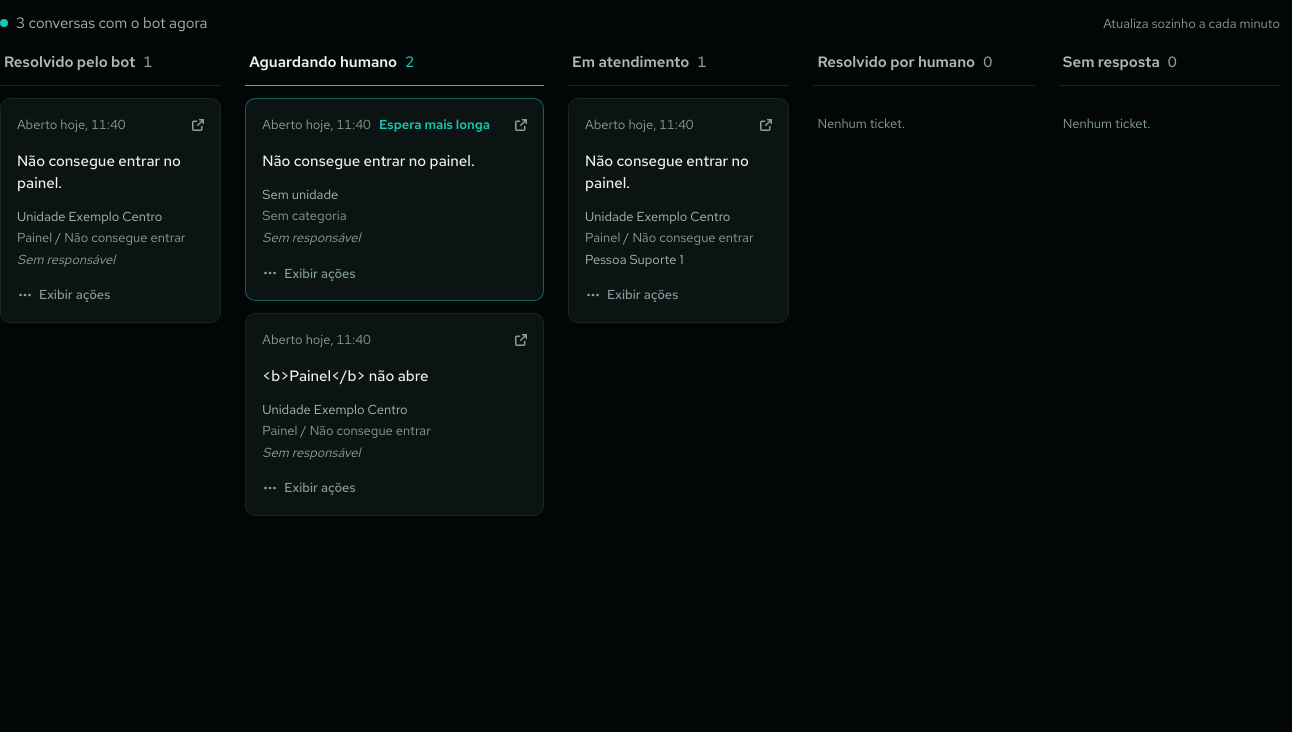
Test: BoardView › keeps focus on the card when the backend refuses
The width and height of the screenshot is (1292, 732).
Click the button "Exibir ações" below "Pessoa Suporte 1". click: (632,295)
box: [577, 281, 686, 309]
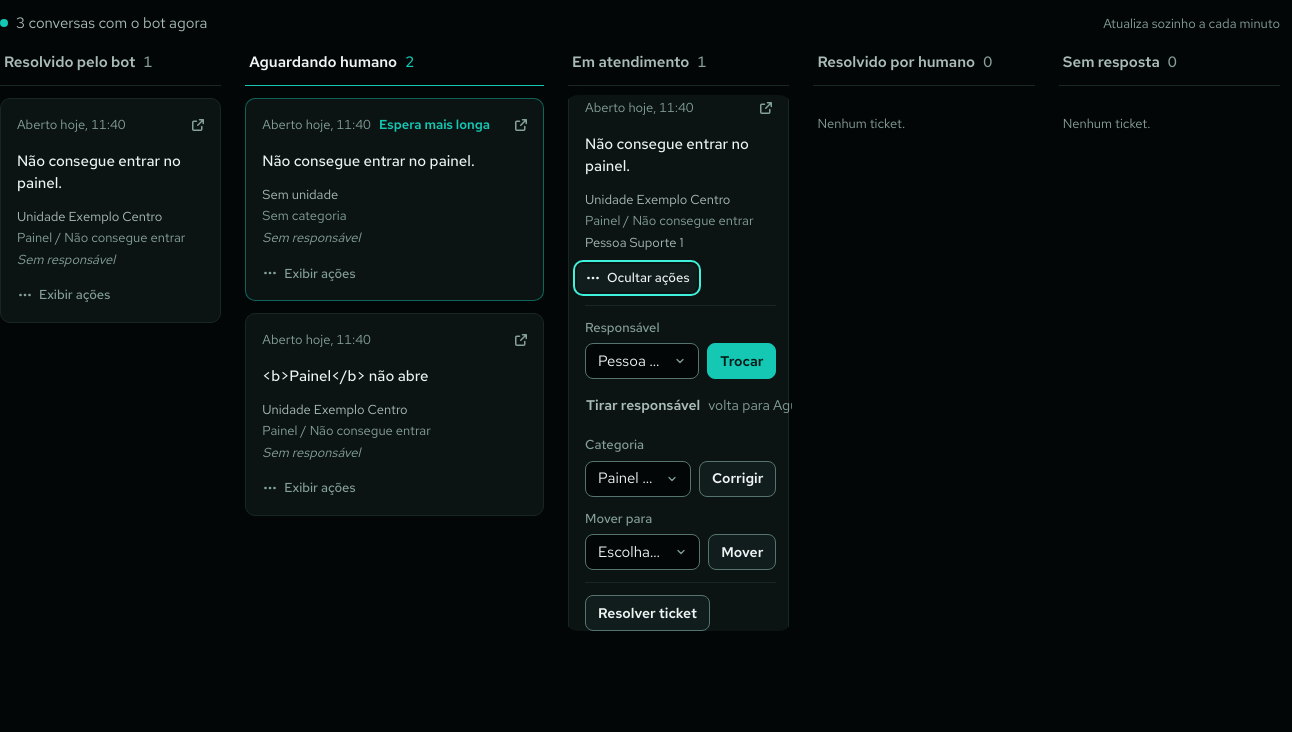
Click the button "Resolver ticket". click: (648,613)
box: [585, 595, 710, 631]
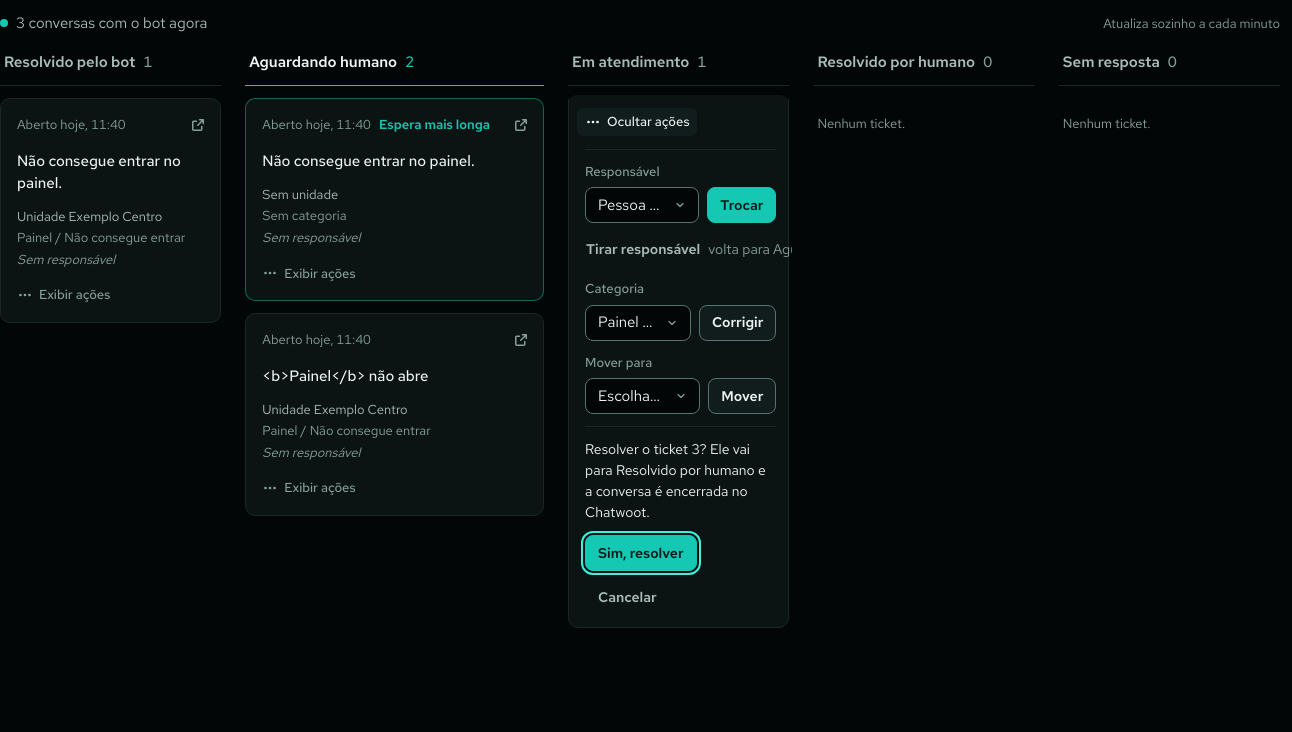
Click the button "Sim, resolver". click: (641,553)
box: [585, 535, 697, 571]
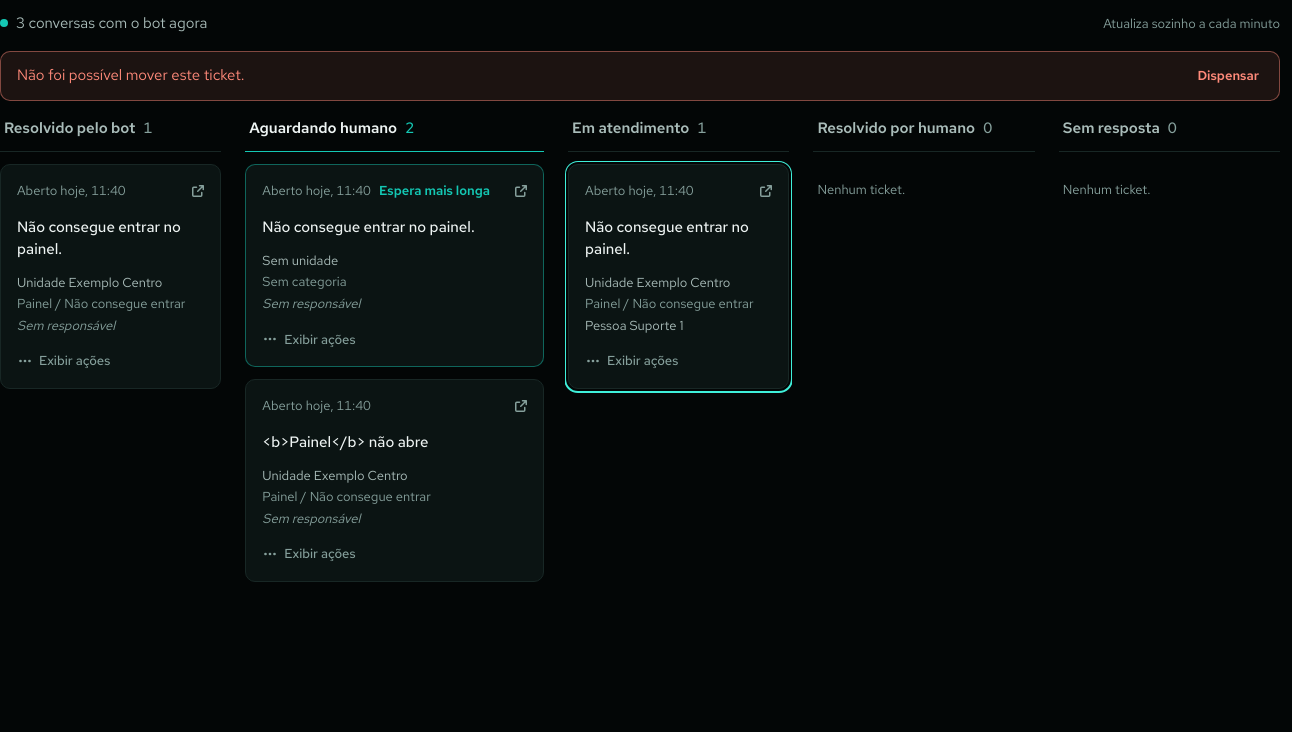
Now the message shows "Não foi possível mover este ticket.", box [17, 65, 245, 85]
